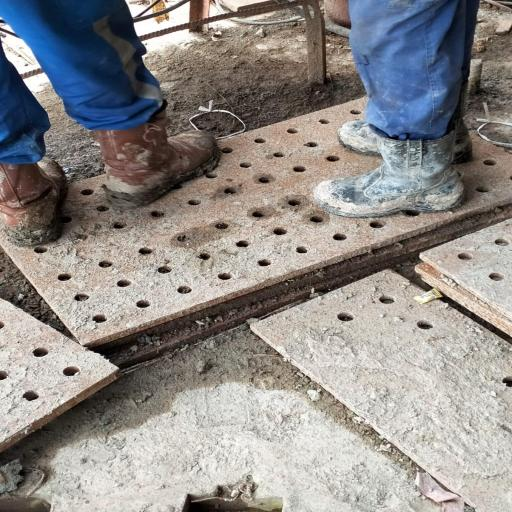safety_shoe: (312, 130, 474, 219), (85, 116, 230, 201), (0, 156, 85, 240)
